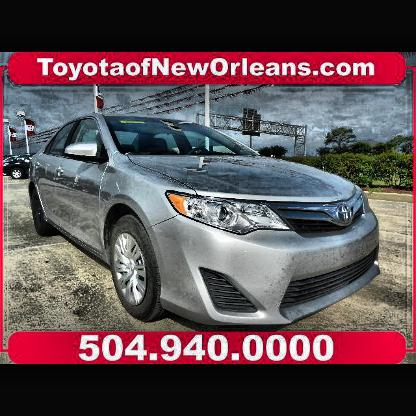Toyota Camry Sedan 2012: (29, 115, 381, 327)
